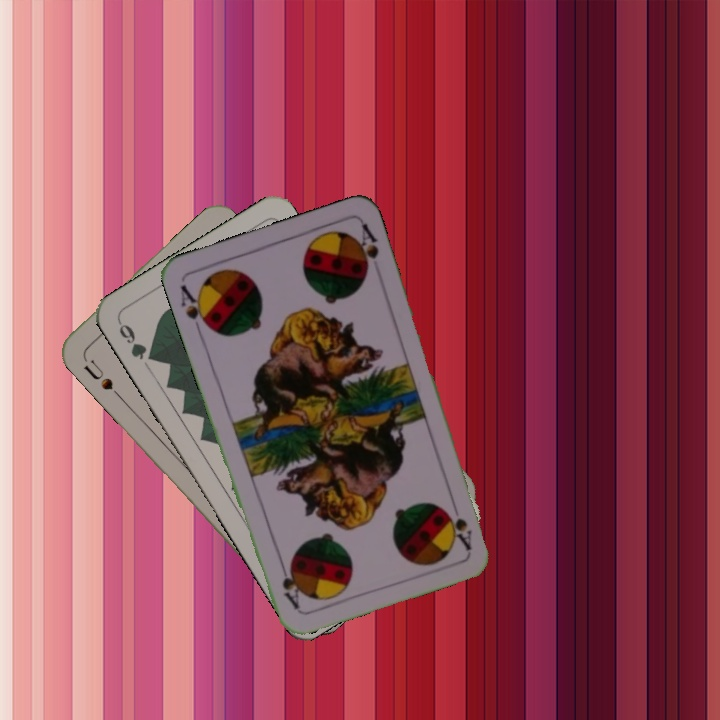G9: (114, 317, 160, 364)
SA: (176, 281, 214, 337), (443, 495, 475, 553)
SU: (78, 351, 116, 393)
